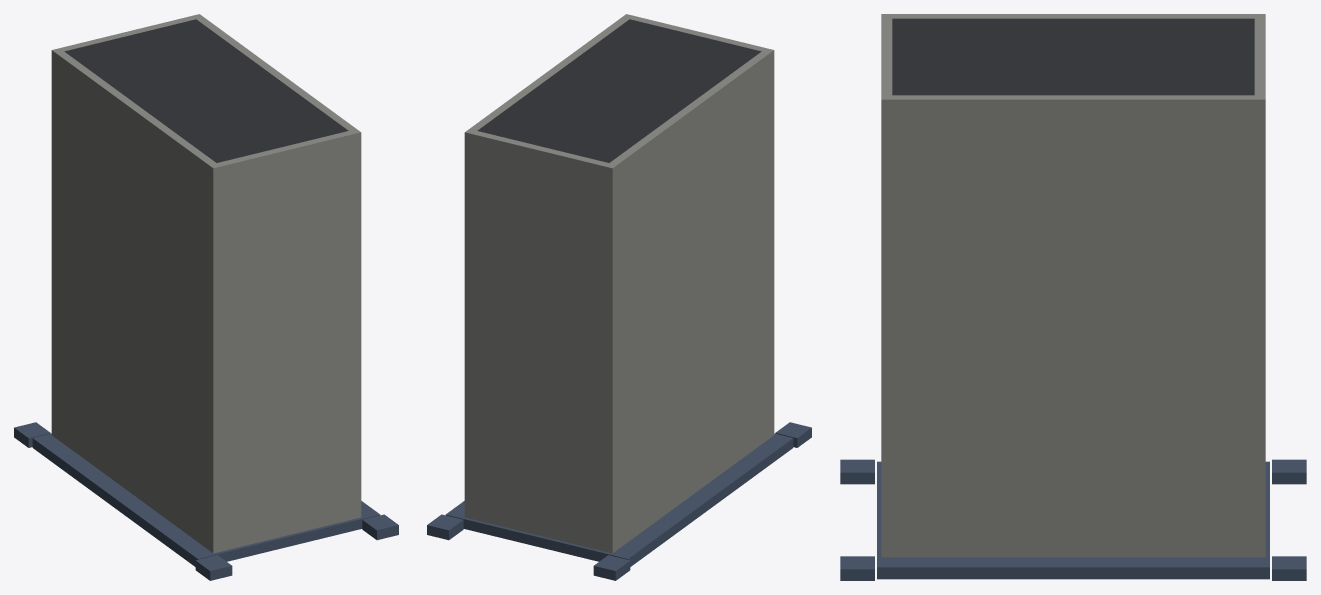
Rendered from pb8_housing.obj.
3 renders of one model, left to right at view 1: azimuth 30°, elevation 25°; view 2: azimuth 150°, elevation 25°; view 3: azimuth 270°, elevation 25°, orthographic. The views are drawn at different scales.
Visible parts, largest first — view 1: pb8_housing; view 2: pb8_housing; view 3: pb8_housing.
Part boxes in pixels (x1,y1,x2,y2): pb8_housing: (14, 14, 398, 580); pb8_housing: (427, 14, 811, 580); pb8_housing: (840, 14, 1306, 580).
Bounding box in the file's own units: 0.6 × 1.2 × 1.08.
